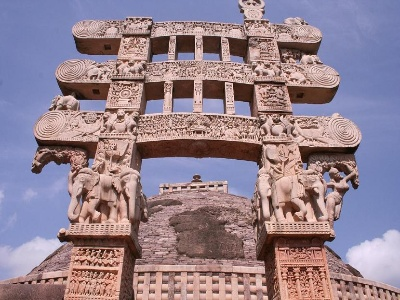torana: (39, 5, 365, 268)
